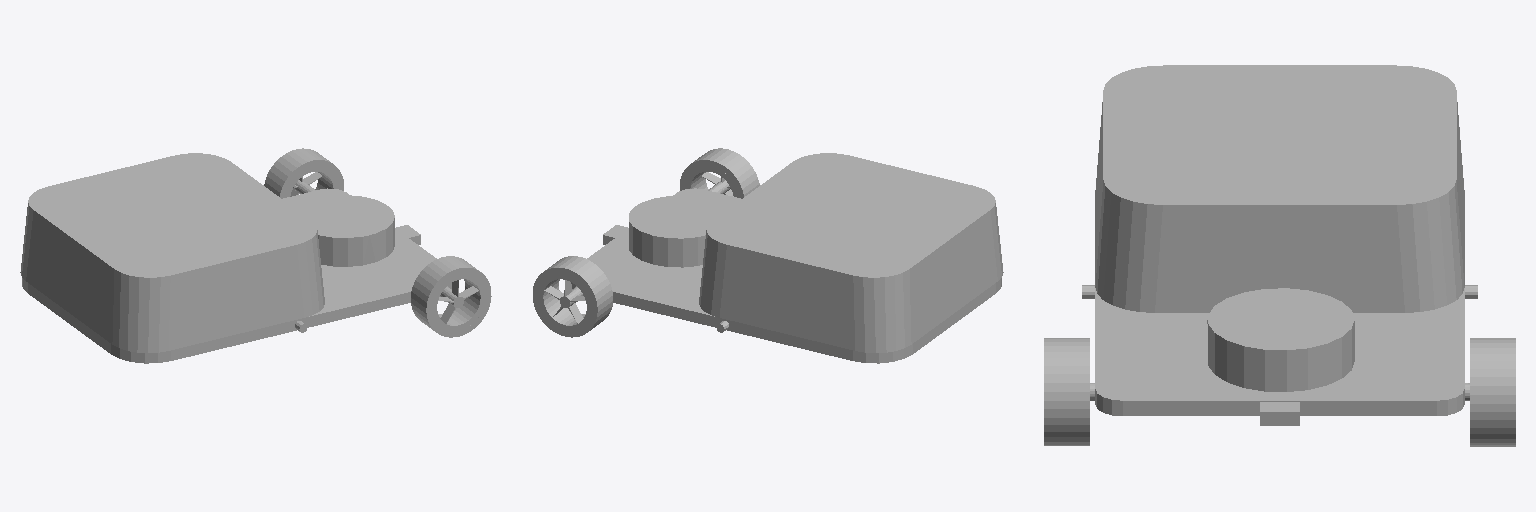
robot.urdf — rbo:
<?xml version="1.0" encoding="utf-8"?>
<!-- This URDF was automatically created by SolidWorks to URDF Exporter! Originally created by [author] ([email redacted]) 
     Commit Version: 1.6.0-4-g7f85cfe  Build Version: 1.6.7995.38578
     For more information, please see http://wiki.ros.org/sw_urdf_exporter -->
<robot
  name="rbo">
  <link
    name="base_link">
    <inertial>
      <origin
        xyz="-0.0502165328285487 2.73738125292911E-05 0.031001700196131"
        rpy="0 0 0" />
      <mass
        value="3.15600508148061" />
      <inertia
        ixx="0.0101956910304204"
        ixy="-8.324620082986E-06"
        ixz="-0.000407862055256502"
        iyy="0.0141071441577526"
        iyz="-1.47426007063046E-06"
        izz="0.0225589809273961" />
    </inertial>
    <visual>
      <origin
        xyz="0 0 0"
        rpy="0 0 0" />
      <geometry>
        <mesh
          filename="package://rbo/meshes/base_link.STL" />
      </geometry>
      <material
        name="">
        <color
          rgba="0.752941176470588 0.752941176470588 0.752941176470588 1" />
      </material>
    </visual>
    <collision>
      <origin
        xyz="0 0 0"
        rpy="0 0 0" />
      <geometry>
        <mesh
          filename="package://rbo/meshes/base_link.STL" />
      </geometry>
    </collision>
  </link>
  <link
    name="left_wheel">
    <inertial>
      <origin
        xyz="0.119946222993201 0.117120245509277 0.00492452660000106"
        rpy="0 0 0" />
      <mass
        value="0.015380876049423" />
      <inertia
        ixx="6.32585168804471E-06"
        ixy="-2.99075748651794E-20"
        ixz="5.29026587161549E-23"
        iyy="1.06001528693119E-05"
        iyz="-7.76512072299179E-23"
        izz="6.32585168804471E-06" />
    </inertial>
    <visual>
      <origin
        xyz="0 0 0"
        rpy="0 0 0" />
      <geometry>
        <mesh
          filename="package://rbo/meshes/left_wheel.STL" />
      </geometry>
      <material
        name="">
        <color
          rgba="0.752941176470588 0.752941176470588 0.752941176470588 1" />
      </material>
    </visual>
    <collision>
      <origin
        xyz="0 0 0"
        rpy="0 0 0" />
      <geometry>
        <mesh
          filename="package://rbo/meshes/left_wheel.STL" />
      </geometry>
    </collision>
  </link>
  <joint
    name="left_wheelj"
    type="continuous">
    <origin
      xyz="0 0 0"
      rpy="0 0 0" />
    <parent
      link="base_link" />
    <child
      link="left_wheel" />
    <axis
      xyz="0 1 0" />
  </joint>
  <link
    name="right_wheel">
    <inertial>
      <origin
        xyz="0.119946222993201 -0.117120245509272 0.00492452660000099"
        rpy="0 0 0" />
      <mass
        value="0.015380876049423" />
      <inertia
        ixx="6.32585168804472E-06"
        ixy="6.98160552508791E-22"
        ixz="1.71446940671184E-22"
        iyy="1.06001528693119E-05"
        iyz="5.17641975462766E-23"
        izz="6.32585168804472E-06" />
    </inertial>
    <visual>
      <origin
        xyz="0 0 0"
        rpy="0 0 0" />
      <geometry>
        <mesh
          filename="package://rbo/meshes/right_wheel.STL" />
      </geometry>
      <material
        name="">
        <color
          rgba="0.752941176470588 0.752941176470588 0.752941176470588 1" />
      </material>
    </visual>
    <collision>
      <origin
        xyz="0 0 0"
        rpy="0 0 0" />
      <geometry>
        <mesh
          filename="package://rbo/meshes/right_wheel.STL" />
      </geometry>
    </collision>
  </link>
  <joint
    name="right_wheelj"
    type="continuous">
    <origin
      xyz="0 0 0"
      rpy="0 0 0" />
    <parent
      link="base_link" />
    <child
      link="right_wheel" />
    <axis
      xyz="0 -1 0" />
  </joint>
</robot>

--- Render facts (derived) ---
Views: 3 orthographic renders of the robot side by side, from view 1: azimuth 30°, elevation 25°; view 2: azimuth 150°, elevation 25°; view 3: azimuth 270°, elevation 25°.
Model rbo with 3 links and 2 joints (2 continuous), rooted at base_link, posed all joints at 0.
Links seen in each view (by area): view 1: base_link; view 2: base_link; view 3: base_link.
Boxes of the visible links, <box> form: base_link: <box>20,148,491,363</box>; base_link: <box>533,148,1003,363</box>; base_link: <box>1044,65,1515,446</box>.
Size in the robot's own frame: 0.3175 by 0.2592 by 0.1062 metres.
3 mesh visuals loaded from 3 distinct referenced files (3 binary STL).